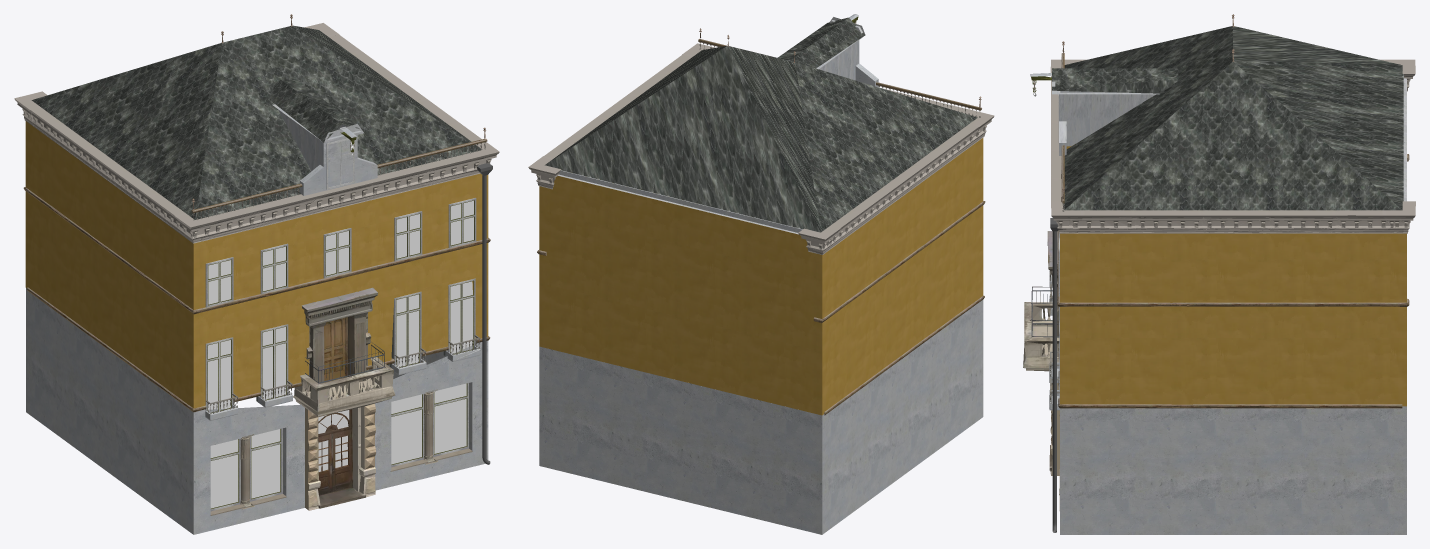
The model's file is canalHouse2.glb.
3 views of the same model, side by side, from view 1: azimuth 30°, elevation 25°; view 2: azimuth 150°, elevation 25°; view 3: azimuth 270°, elevation 25° (orthographic). The views are drawn at different scales.
Visible parts, largest first — view 1: Object_132, Object_103, Object_102, Object_107, Object_58, Object_135, Object_25, Object_56, Object_27, Object_72, Object_108, Object_5 (+2 smaller); view 2: Object_132, Object_102, Object_103, Object_58, Object_27; view 3: Object_132, Object_103, Object_102, Object_58, Object_27, Object_72, Object_105.
Boxes of the visible parts, x1,y1,x2,y2 form: Object_132: (25,121,488,408); Object_103: (31,25,482,401); Object_102: (26,104,488,534); Object_107: (208,141,473,508); Object_58: (14,23,499,243); Object_135: (205,138,476,511); Object_25: (305,403,375,510); Object_56: (301,287,377,391); Object_27: (23,138,490,412); Object_72: (293,342,395,416); Object_108: (207,132,474,508); Object_5: (210,389,472,515); Object_132: (539,138,983,415); Object_102: (539,14,983,534); Object_103: (545,17,977,232); Object_58: (528,43,994,254); Object_27: (537,39,985,415); Object_132: (1060,145,1406,406); Object_103: (1052,26,1403,210); Object_102: (1030,73,1406,534); Object_58: (1050,59,1415,233); Object_27: (1057,53,1409,408); Object_72: (1023,286,1059,371); Object_105: (1050,218,1058,532).
Size of the model in its own units: 10.7 by 13.71 by 11.37.
Materials: 17 (14 with a texture image).
